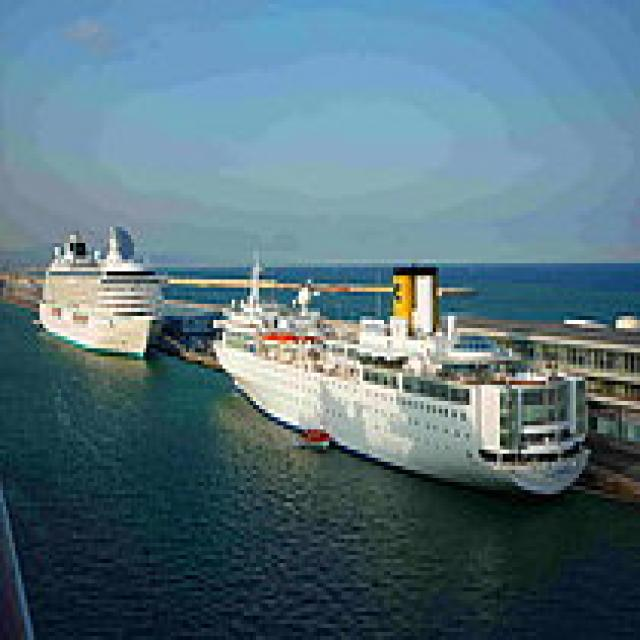Cruise: (204, 243, 591, 498), (34, 215, 162, 356)
